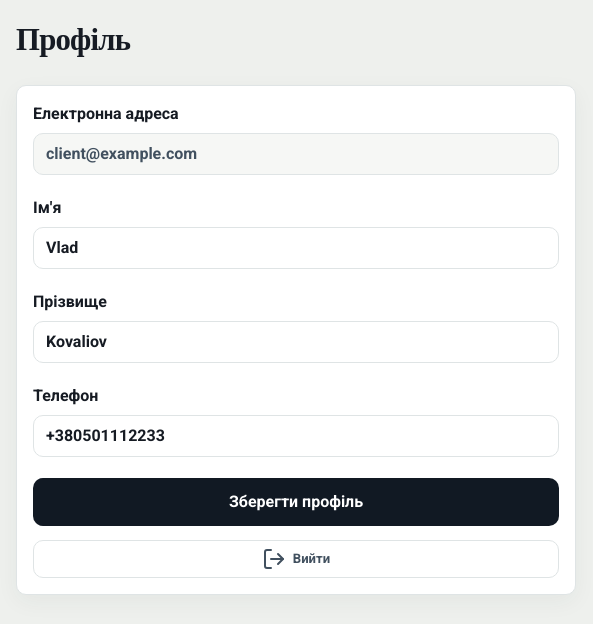
Test: ProfilePage › validates short names
Replace the text in the field labelled "Ім'я" with "A" at (296, 248), box [33,227,559,269]
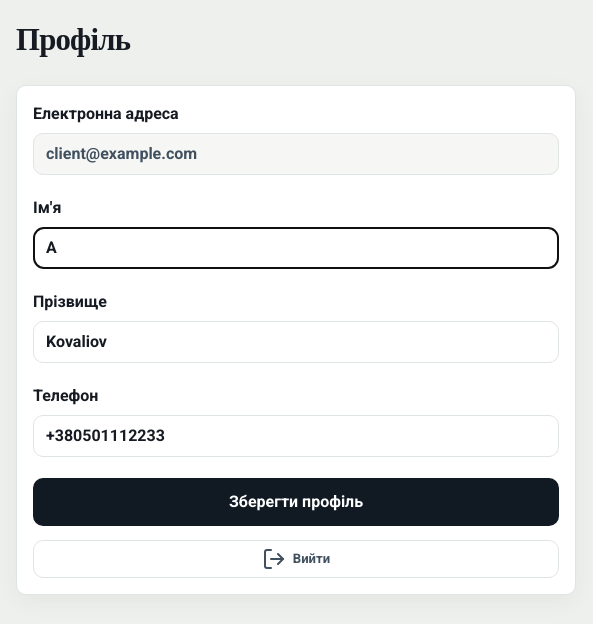
Click the button "Зберегти профіль".
click(296, 502)  # box [33,478,559,526]
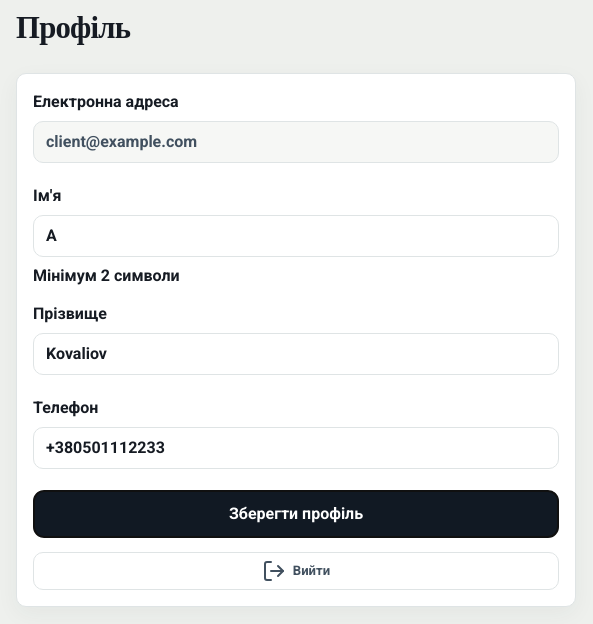
Now the text "Мінімум 2 символи" is shown, box [33,266,180,285]
